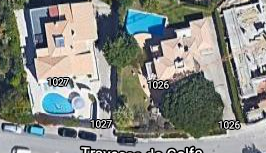pool: (128, 11, 160, 36), (41, 96, 77, 115)
